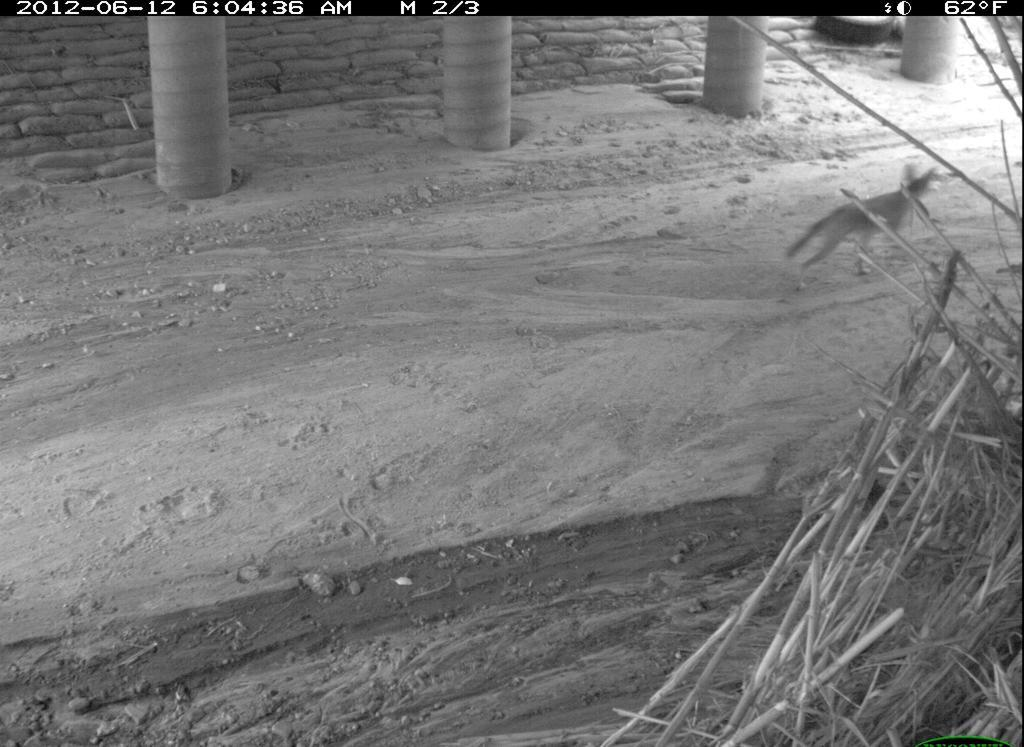coyote: (780, 164, 949, 292)
